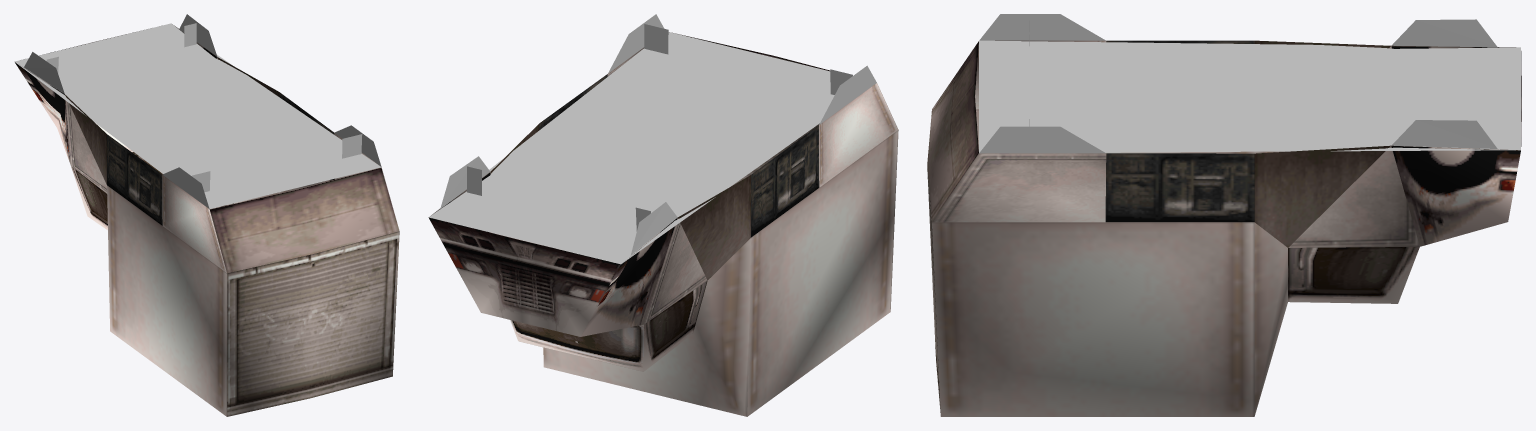
Rendered from VEGAS_model10_low.obj.
3 renders of one model, left to right at view 1: azimuth 30°, elevation 25°; view 2: azimuth 150°, elevation 25°; view 3: azimuth 270°, elevation 25°, orthographic. The views are drawn at different scales.
Parts seen in each view (by area): view 1: VEGAS_model10_low; view 2: VEGAS_model10_low; view 3: VEGAS_model10_low.
Boxes of the visible parts, x1,y1,x2,y2 form: VEGAS_model10_low: (14, 14, 399, 416); VEGAS_model10_low: (428, 14, 898, 416); VEGAS_model10_low: (927, 14, 1521, 416).
Size of the model in its own units: 391 by 472 by 870.
